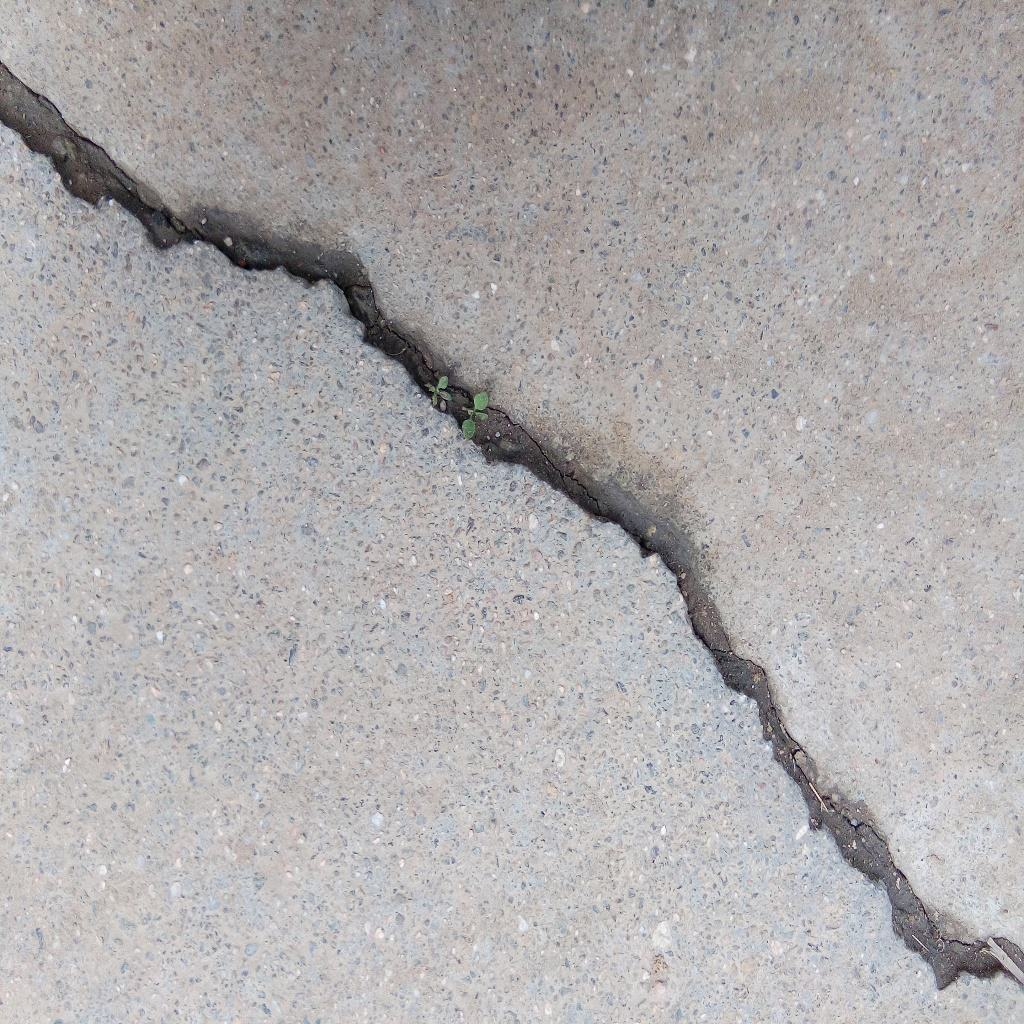Crack: (1, 57, 1024, 994)
